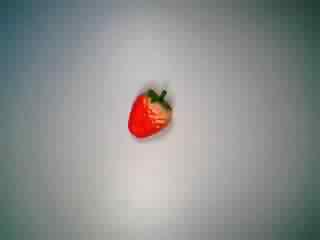strawberry: (117, 78, 176, 147)
